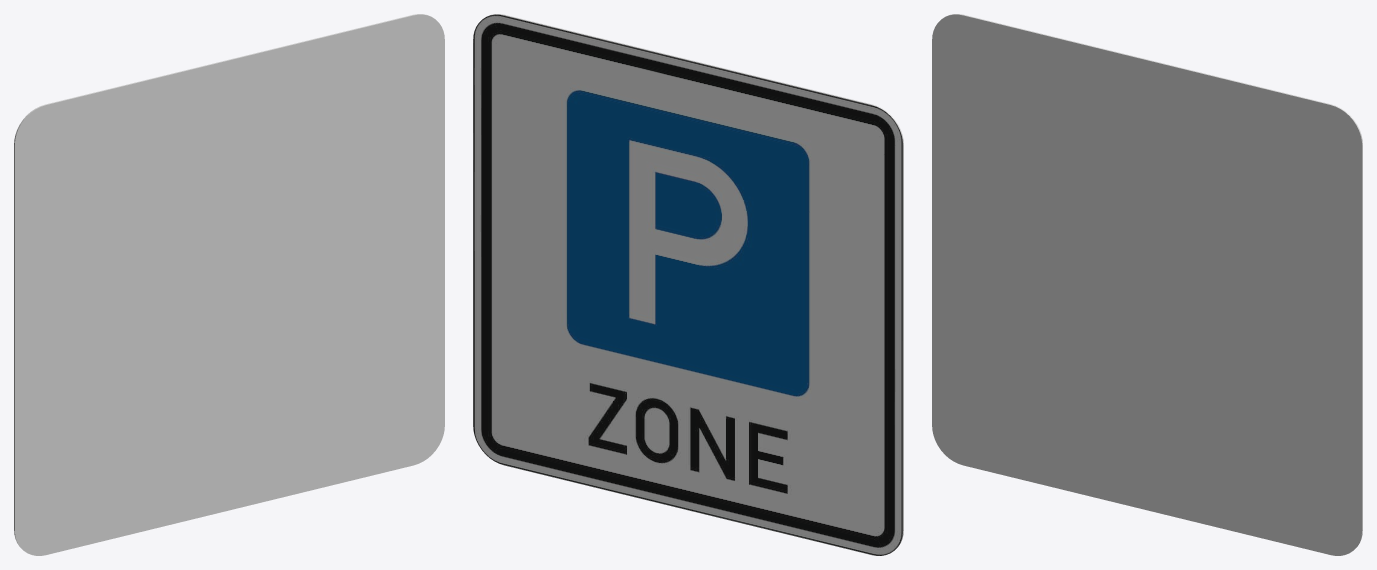
3 renders of one model, left to right at view 1: azimuth 30°, elevation 25°; view 2: azimuth 150°, elevation 25°; view 3: azimuth 330°, elevation 25°, orthographic.
Parts seen in each view (by area): view 1: Plane; view 2: Plane; view 3: Plane.
Part boxes in pixels (bbox=[...]): Plane: bbox=[14, 14, 444, 555]; Plane: bbox=[473, 14, 903, 555]; Plane: bbox=[932, 14, 1362, 555].
Size of the model in its own units: 0.6 by 0.6 by 0.002.
Materials: 2 (1 with a texture image).
